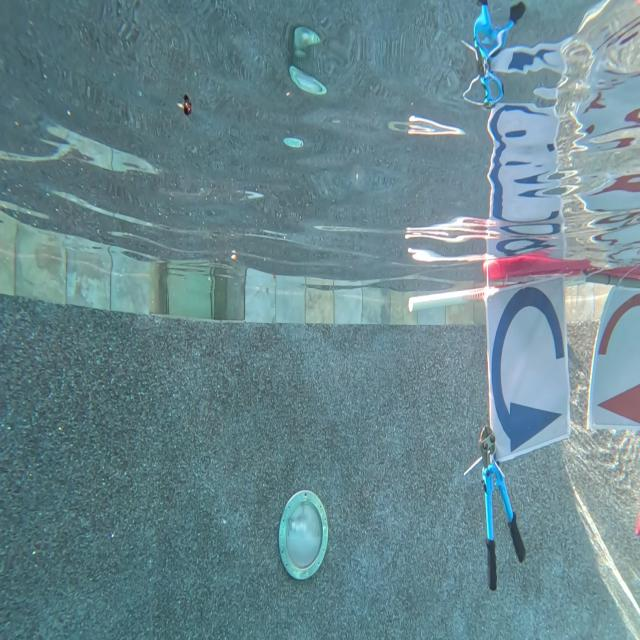blue_side: (492, 289, 568, 443)
red_side: (595, 284, 640, 426)
